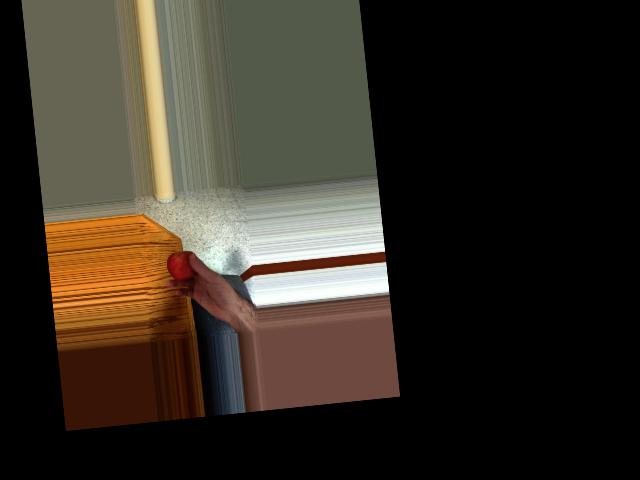apple: (166, 249, 201, 282)
